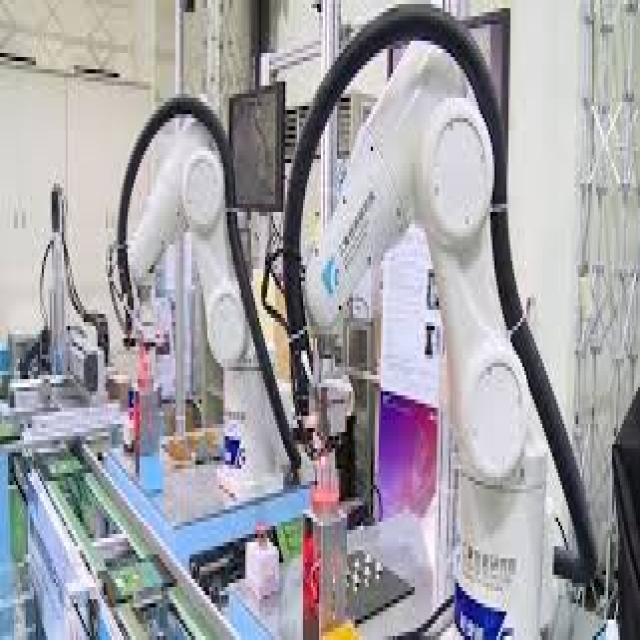Robotic-arm: (306, 35, 554, 640), (105, 128, 272, 461)
